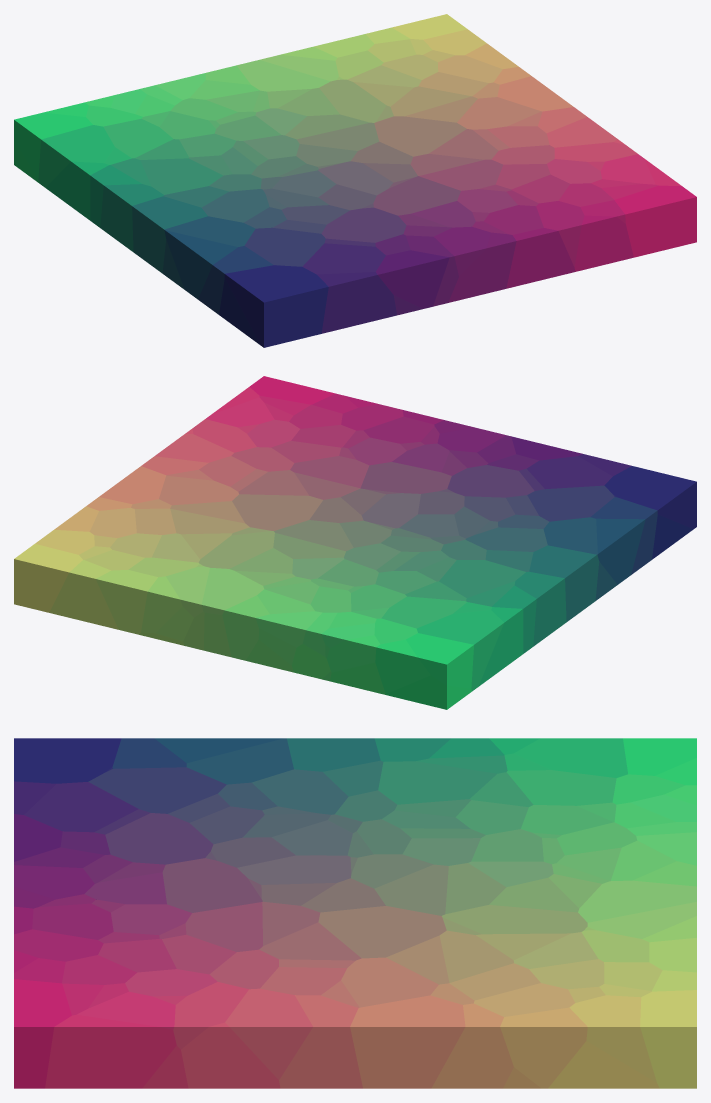
3 views of the same model, one above another, from view 1: azimuth 30°, elevation 25°; view 2: azimuth 150°, elevation 25°; view 3: azimuth 270°, elevation 25° (orthographic). The views are drawn at different scales.
Visible parts, largest first — view 1: Box; view 2: Box; view 3: Box.
Boxes of the visible parts, box(x1,y1,x2,y2) form: Box: box(14, 14, 696, 347); Box: box(14, 376, 696, 709); Box: box(14, 738, 696, 1088).
Size of the model in its own units: 100 by 10 by 100.
